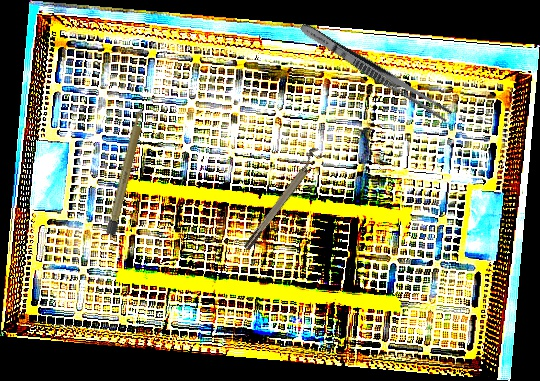Dressing Forceps: (296, 19, 455, 124)
Fixation Ring: (237, 145, 327, 252)
Scalpel Handle: (105, 106, 148, 236)
